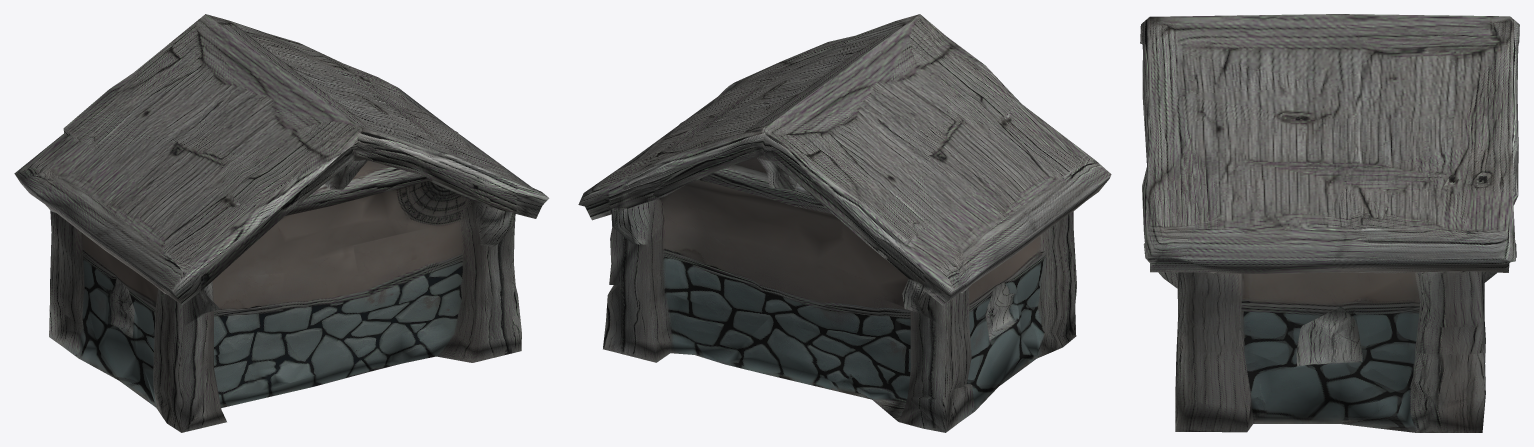
File: prop-hut-wall.glb
3 renders of one model, left to right at view 1: azimuth 30°, elevation 25°; view 2: azimuth 150°, elevation 25°; view 3: azimuth 270°, elevation 25°, orthographic. The views are drawn at different scales.
Size of the model in its own units: 2 by 1.39 by 1.5.
1 material, 1 textured.
